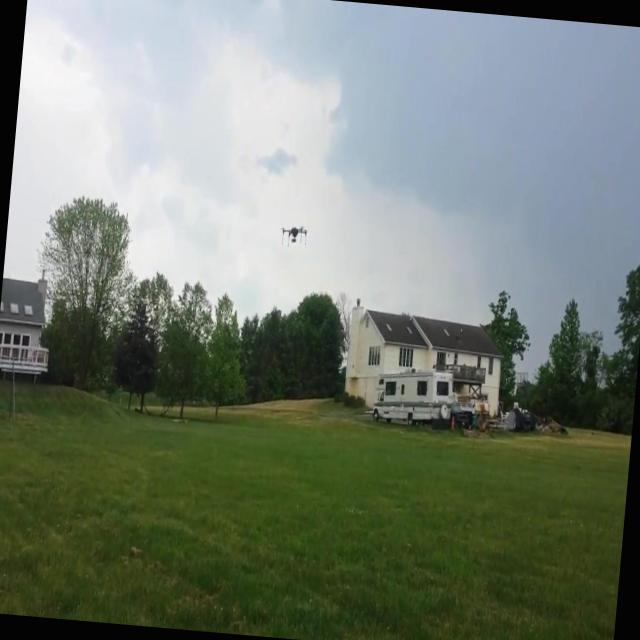drone: (278, 219, 310, 254)
